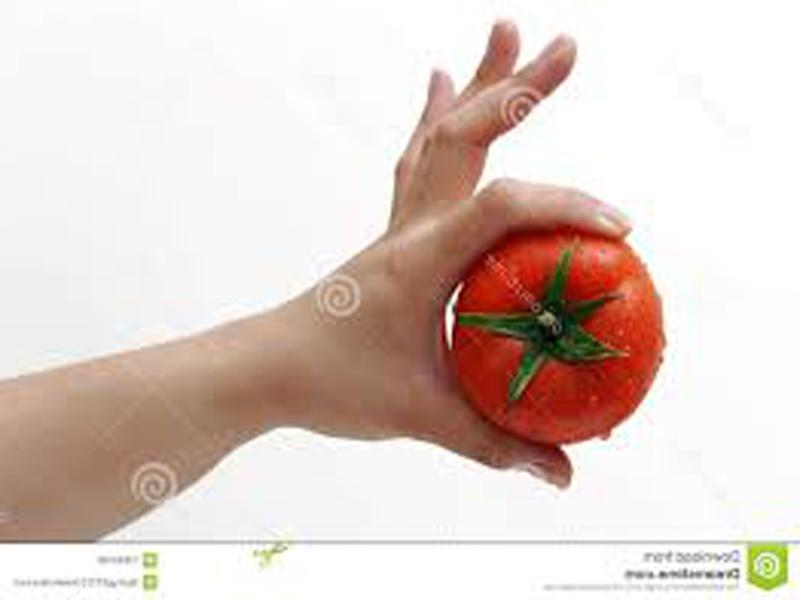Tomato: (451, 225, 665, 444)
